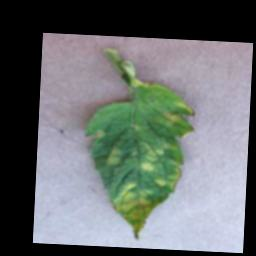Leaf_Mold: (109, 181, 162, 241), (160, 110, 182, 127), (175, 98, 195, 115), (132, 78, 156, 90), (139, 158, 155, 173)
